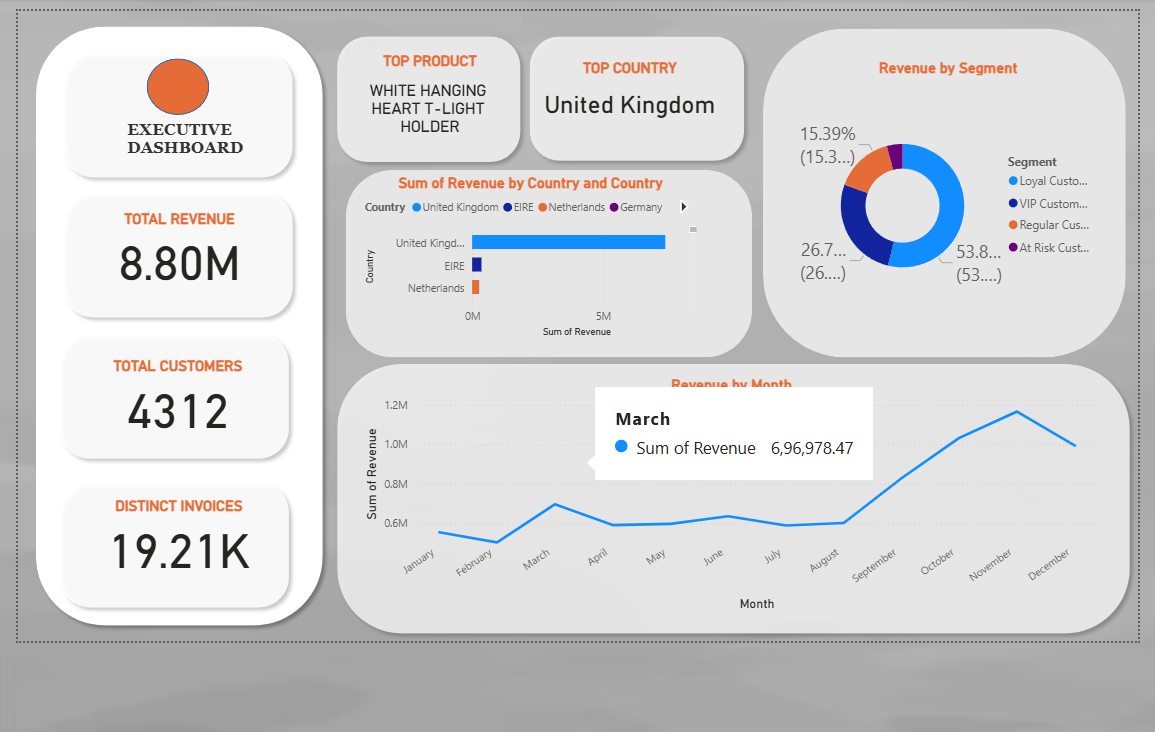

The dashboard page shown, as its layout file describes it:
{"tool":"powerbi","page":{"name":"EXECUTIVE","canvas":[1280,720],"ordinal":0},"visuals":[{"type":"shape","box":[11,8.2,345.8,702.6],"z":0},{"type":"shape","box":[42.5,38.4,279.9,160.5],"z":1000},{"type":"shape","box":[42.5,199,279.9,160.5],"z":2000},{"type":"shape","box":[38.4,359.5,279.9,160.5],"z":3000},{"type":"shape","box":[38.4,529.7,279.9,160.5],"z":4000},{"type":"shape","box":[576.4,20,263.2,160.2],"z":5000},{"type":"textbox","box":[76.8,119.4,209.9,65.9],"z":6000},{"type":"shape","box":[146.8,54.9,71.4,64.5],"z":7000},{"type":"card","title":"TOTAL REVENUE","fields":{"Values":["Sum(retail_segmentation cleaned_transactions.Revenue)"]},"box":[85.1,227.8,197.6,90.6],"z":8000},{"type":"card","title":"TOTAL CUSTOMERS","fields":{"Values":["Count(retail_segmentation cleaned_transactions.CustomerID)"]},"box":[75.5,395.2,214.1,90.6],"z":9000},{"type":"card","title":"DISTINCT INVOICES","fields":{"Values":["Count(retail_segmentation cleaned_transactions.Invoice)"]},"box":[85.1,555.7,196.2,90.6],"z":10000},{"type":"shape","box":[356.1,20,227.4,161.6],"z":11000},{"type":"card","title":"TOP PRODUCT","fields":{"Values":["Max(retail_segmentation cleaned_transactions.Description)"]},"box":[374.7,47.2,193.1,108.7],"z":12000},{"type":"card","title":"TOP COUNTRY","fields":{"Values":["Min(retail_segmentation cleaned_transactions.Country)"]},"box":[589.2,54.3,221.7,82.9],"z":13000},{"type":"shape","box":[356.1,394.7,923.9,326.1],"z":14000},{"type":"lineChart","title":" Revenue by Month","fields":{"Y":["Sum(retail_segmentation cleaned_transactions.Revenue)"],"Category":["retail_segmentation cleaned_transactions.InvoiceDate.Variation.Date Hierarchy.Month"]},"box":[391.9,417.6,848.1,273.2],"z":15000},{"type":"shape","box":[374.7,181.6,464.8,214.5],"z":16000},{"type":"barChart","fields":{"Category":["retail_segmentation cleaned_transactions.Country"],"Y":["Sum(retail_segmentation cleaned_transactions.Revenue)"],"Series":["retail_segmentation cleaned_transactions.Country"]},"box":[391.9,185.9,389,191.6],"z":17000},{"type":"shape","box":[850.9,20,414.7,376.1],"z":18000},{"type":"donutChart","title":" Revenue by Segment","fields":{"Category":["retail_segmentation customer_rfm.Segment"],"Y":["Sum(retail_segmentation cleaned_transactions.Revenue)"]},"box":[885.3,54.3,354.7,317.5],"z":19000}]}

Visuals, with their boxes on the page's 1280x720 design canvas (x1, y1, x2, y2). These are canvas units, not pixel positions in the 1155x732 screenshot, which may show the page scaled, cropped or inside an application window:
shape: (x1=11, y1=8, x2=357, y2=711)
shape: (x1=42, y1=38, x2=322, y2=199)
shape: (x1=42, y1=199, x2=322, y2=360)
shape: (x1=38, y1=360, x2=318, y2=520)
shape: (x1=38, y1=530, x2=318, y2=690)
shape: (x1=576, y1=20, x2=840, y2=180)
textbox: (x1=77, y1=119, x2=287, y2=185)
shape: (x1=147, y1=55, x2=218, y2=119)
"TOTAL REVENUE" card: (x1=85, y1=228, x2=283, y2=318)
"TOTAL CUSTOMERS" card: (x1=76, y1=395, x2=290, y2=486)
"DISTINCT INVOICES" card: (x1=85, y1=556, x2=281, y2=646)
shape: (x1=356, y1=20, x2=584, y2=182)
"TOP PRODUCT" card: (x1=375, y1=47, x2=568, y2=156)
"TOP COUNTRY" card: (x1=589, y1=54, x2=811, y2=137)
shape: (x1=356, y1=395, x2=1280, y2=721)
" Revenue by Month" lineChart: (x1=392, y1=418, x2=1240, y2=691)
shape: (x1=375, y1=182, x2=840, y2=396)
barChart - retail_segmentation cleaned_transactions.Country x Sum(retail_segmentation cleaned_transactions.Revenue): (x1=392, y1=186, x2=781, y2=378)
shape: (x1=851, y1=20, x2=1266, y2=396)
" Revenue by Segment" donutChart: (x1=885, y1=54, x2=1240, y2=372)
